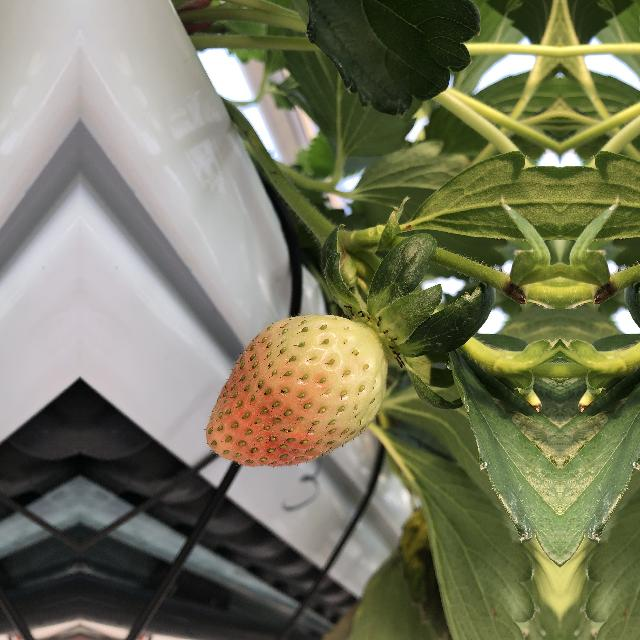Health_75: (200, 294, 396, 476)
